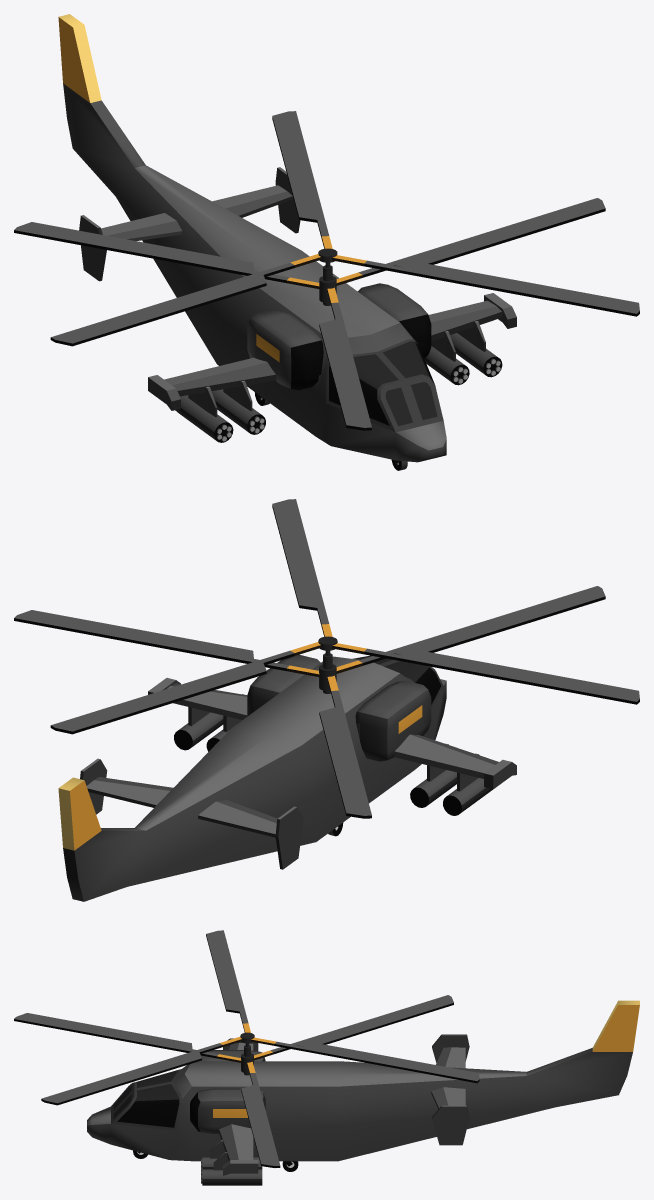
The model's file is Heli02e.fbx.
3 renders of one model, top to bottom at view 1: azimuth 30°, elevation 25°; view 2: azimuth 150°, elevation 25°; view 3: azimuth 270°, elevation 25°, orthographic. The views are drawn at different scales.
Parts seen in each view (by area): view 1: Body, Rotor_Twin_Lower; view 2: Body, Rotor_Twin_Lower; view 3: Body, Rotor_Twin_Lower.
Boxes of the visible parts, box(x1,y1,x2,y2) form: Body: box(58, 14, 516, 470); Rotor_Twin_Lower: box(14, 111, 639, 430); Body: box(58, 654, 516, 901); Rotor_Twin_Lower: box(14, 499, 639, 818); Body: box(87, 1000, 639, 1185); Rotor_Twin_Lower: box(14, 930, 479, 1167).
Bounding box in the file's own units: 1440 × 490 × 1792.
Materials: 1 (1 with a texture image).
